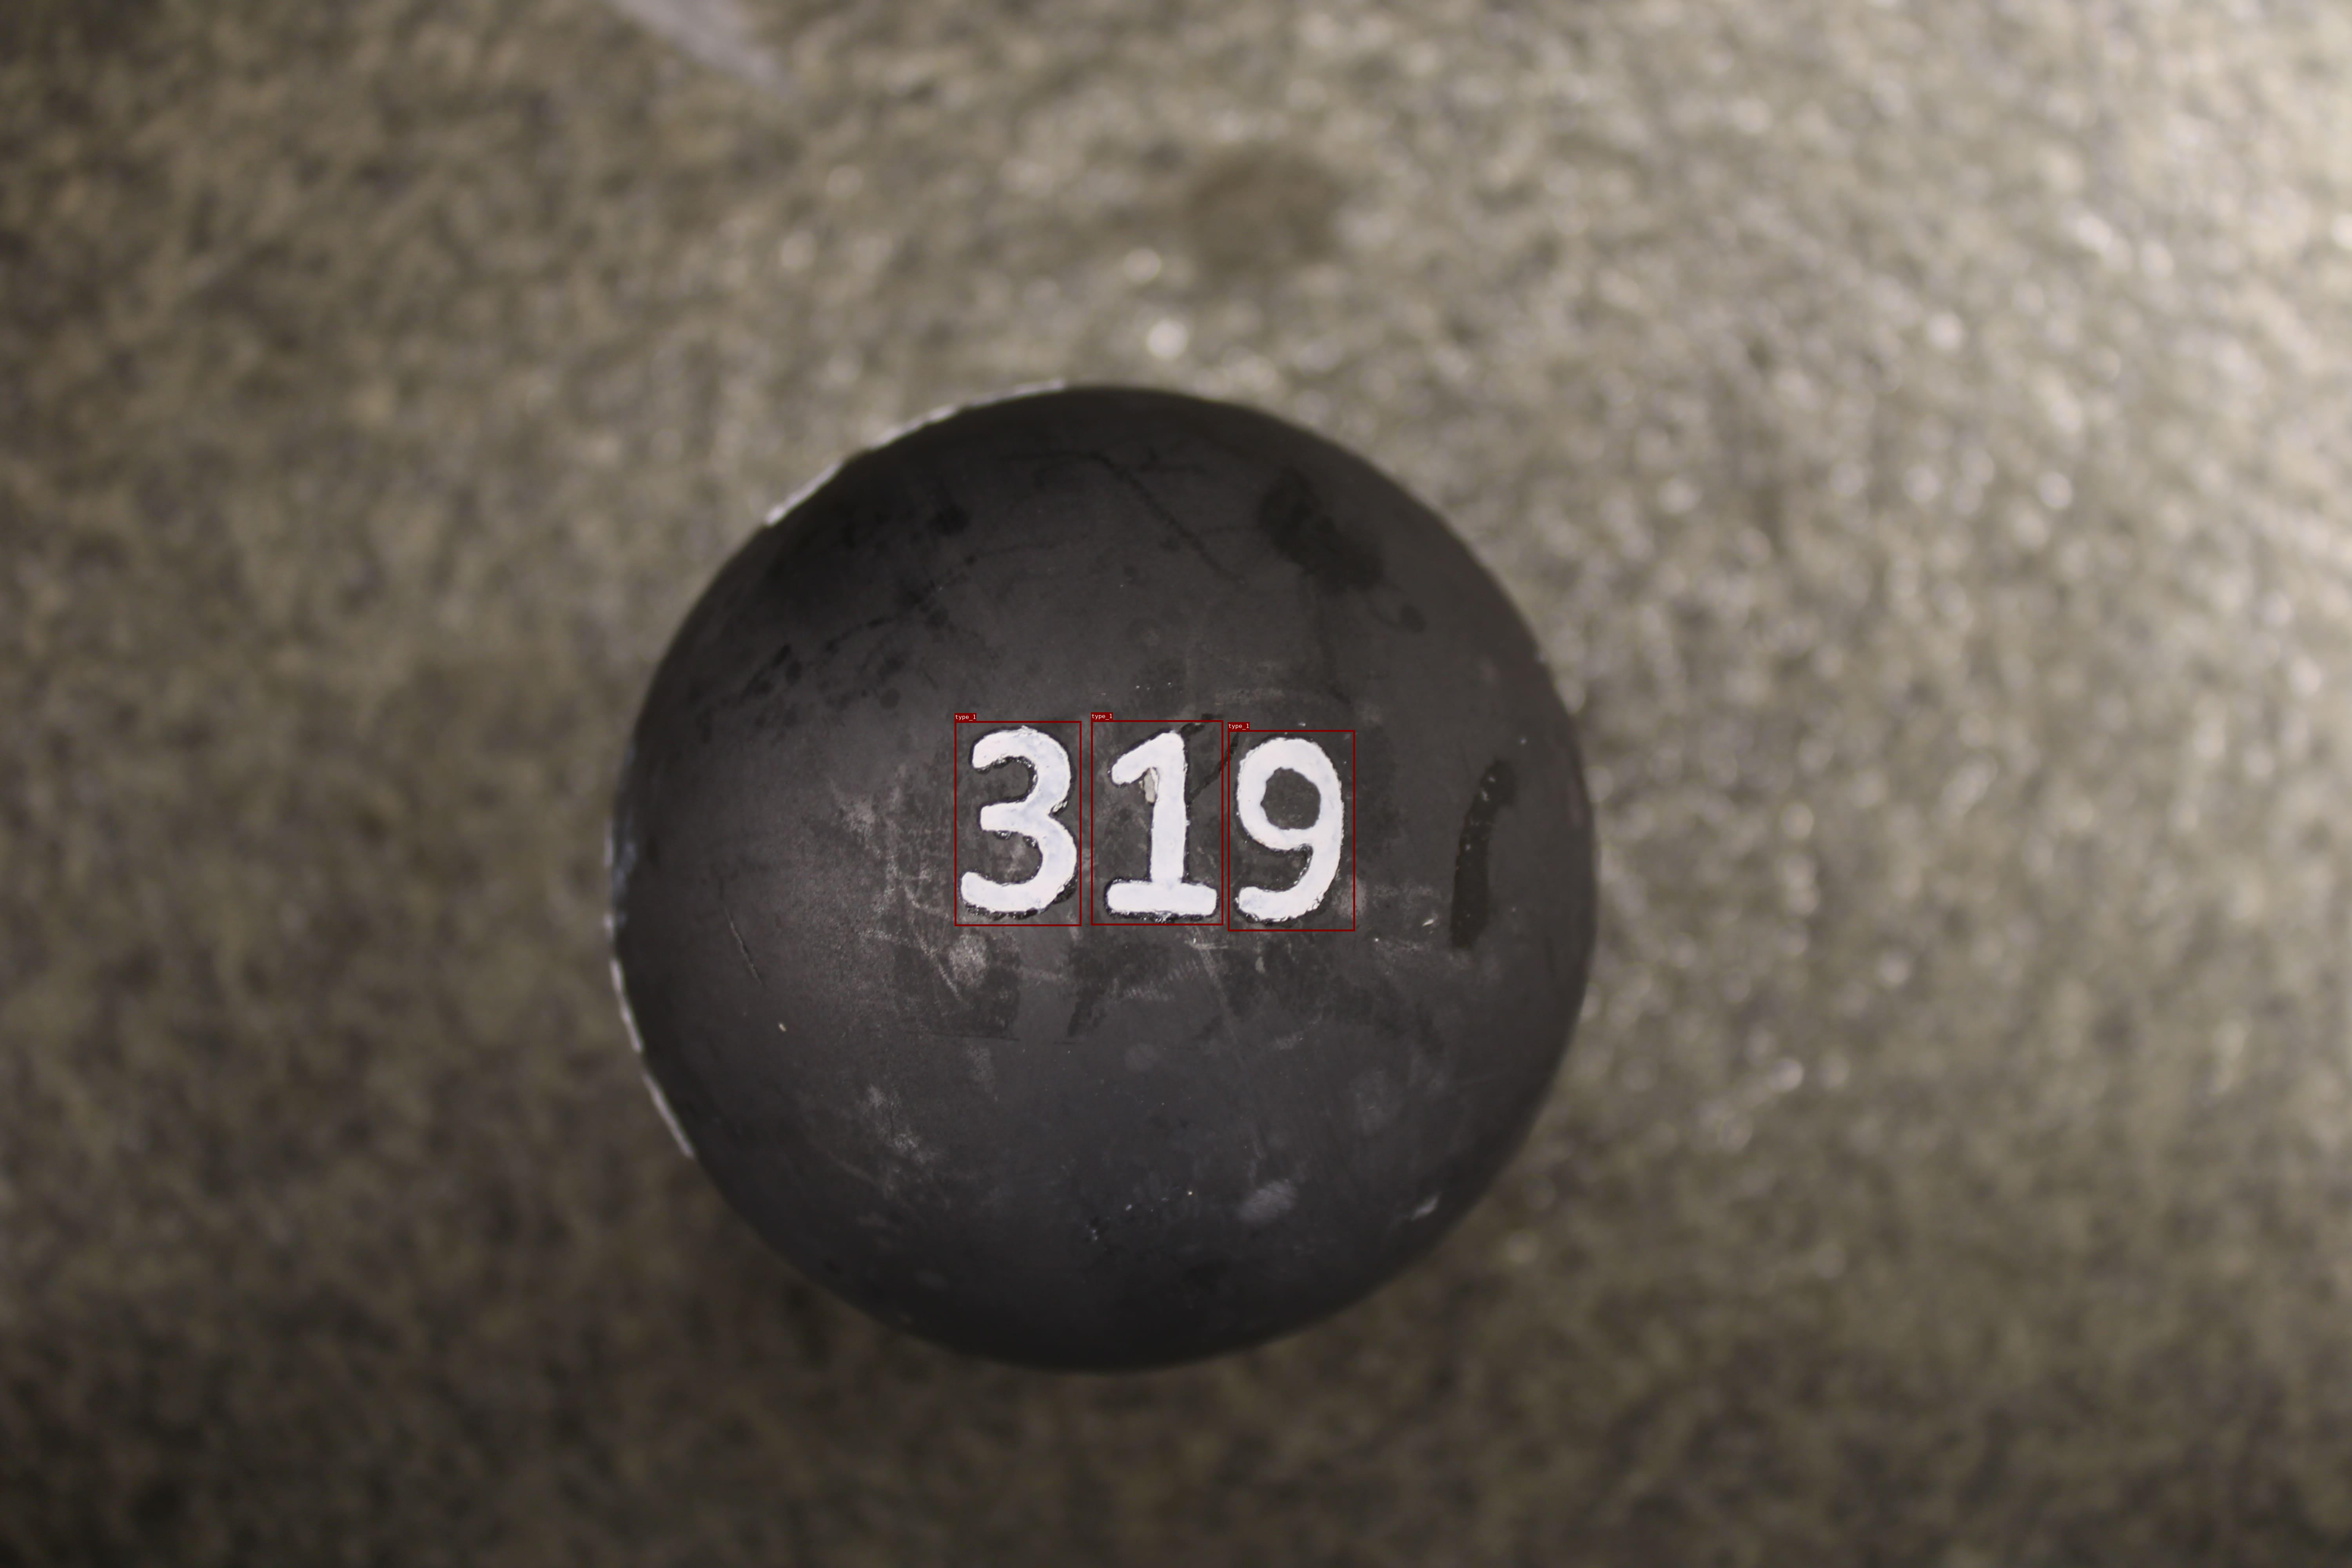type_1: (1090, 719, 1223, 926), (954, 721, 1081, 926), (1228, 730, 1355, 931)
